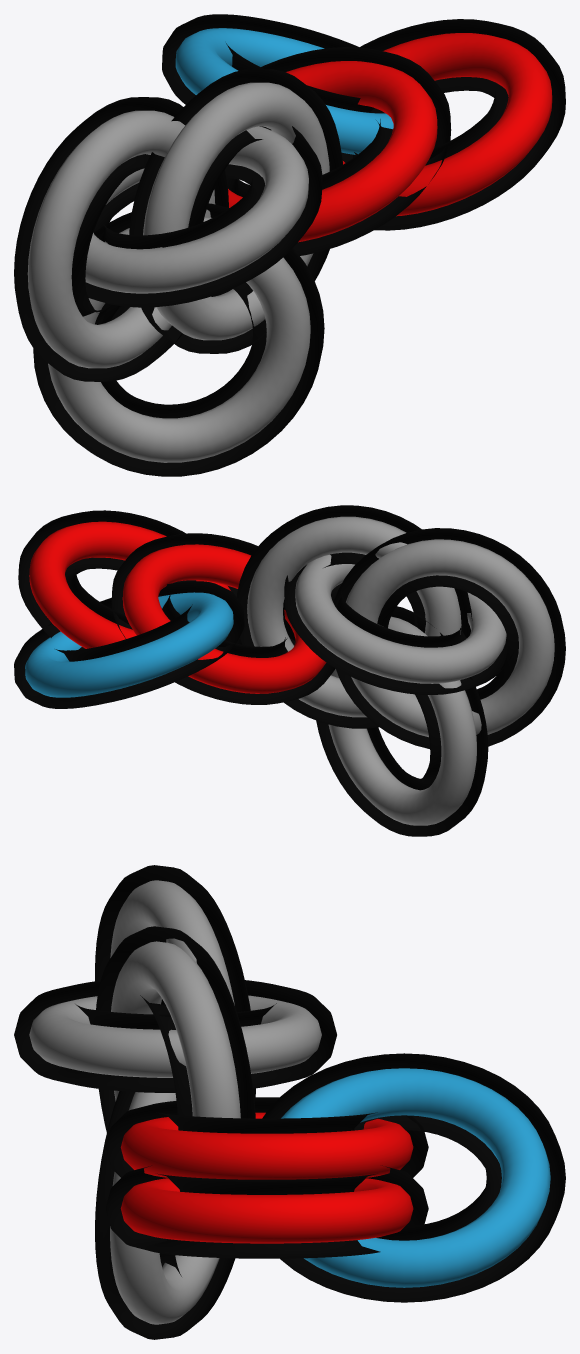
The model's file is charmed_step_05.glb.
3 renders of one model, top to bottom at view 1: azimuth 30°, elevation 25°; view 2: azimuth 150°, elevation 25°; view 3: azimuth 270°, elevation 25°, orthographic. The views are drawn at different scales.
Visible parts, largest first — view 1: Torus.1267, Torus.1265, Torus.1268, Torus.1266, Torus.1270, Torus.1269, Torus.1271; view 2: Torus.1265, Torus.1267, Torus.1266, Torus.1271, Torus.1268, Torus.1269, Torus.1270; view 3: Torus.1271, Torus.1270, Torus.1268, Torus.1269, Torus.1266, Torus.1267, Torus.1265.
Boxes of the visible parts, x1,y1,x2,y2 form: Torus.1267: [33, 203, 324, 476]; Torus.1265: [14, 97, 228, 381]; Torus.1268: [78, 126, 322, 307]; Torus.1266: [129, 69, 342, 353]; Torus.1270: [343, 19, 565, 230]; Torus.1269: [226, 47, 451, 255]; Torus.1271: [162, 14, 393, 162]; Torus.1265: [333, 528, 565, 748]; Torus.1267: [316, 606, 488, 836]; Torus.1266: [236, 505, 472, 728]; Torus.1271: [14, 581, 244, 708]; Torus.1268: [284, 554, 513, 694]; Torus.1269: [111, 533, 335, 704]; Torus.1270: [18, 510, 241, 650]; Torus.1271: [262, 1053, 565, 1302]; Torus.1270: [105, 1165, 428, 1258]; Torus.1268: [14, 980, 336, 1092]; Torus.1269: [105, 1097, 428, 1179]; Torus.1266: [96, 926, 255, 1132]; Torus.1267: [95, 1091, 235, 1339]; Torus.1265: [95, 865, 255, 1097].
Bounding box in the file's own units: 4.87 × 3.02 × 3.62.
